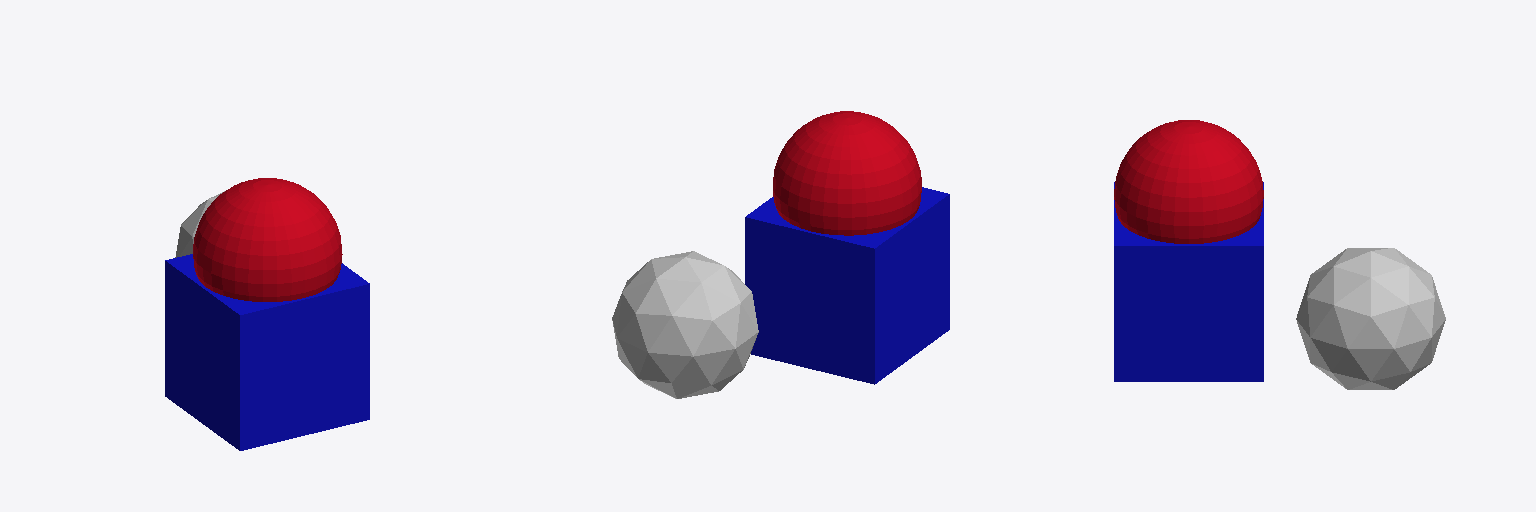
File: objobjects.obj
3 views of the same model, side by side, from view 1: azimuth 30°, elevation 25°; view 2: azimuth 150°, elevation 25°; view 3: azimuth 270°, elevation 25° (orthographic).
Visible parts, largest first — view 1: Cube, Icosphere; view 2: Cube, Icosphere; view 3: Cube, Icosphere.
Part boxes in pixels (x1,y1,x2,y2): Cube: (165, 178, 369, 450); Icosphere: (175, 191, 224, 257); Cube: (745, 111, 949, 384); Icosphere: (612, 251, 758, 398); Cube: (1114, 120, 1263, 381); Icosphere: (1296, 248, 1445, 389).
Bounding box in the file's own units: 3.04 × 3.32 × 4.43.